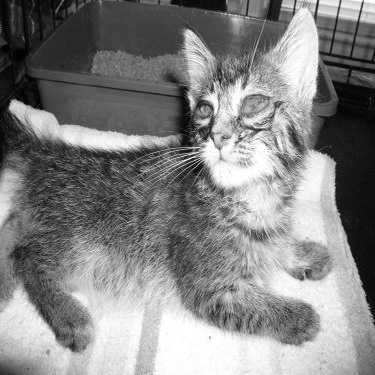cat: (7, 10, 351, 364)
